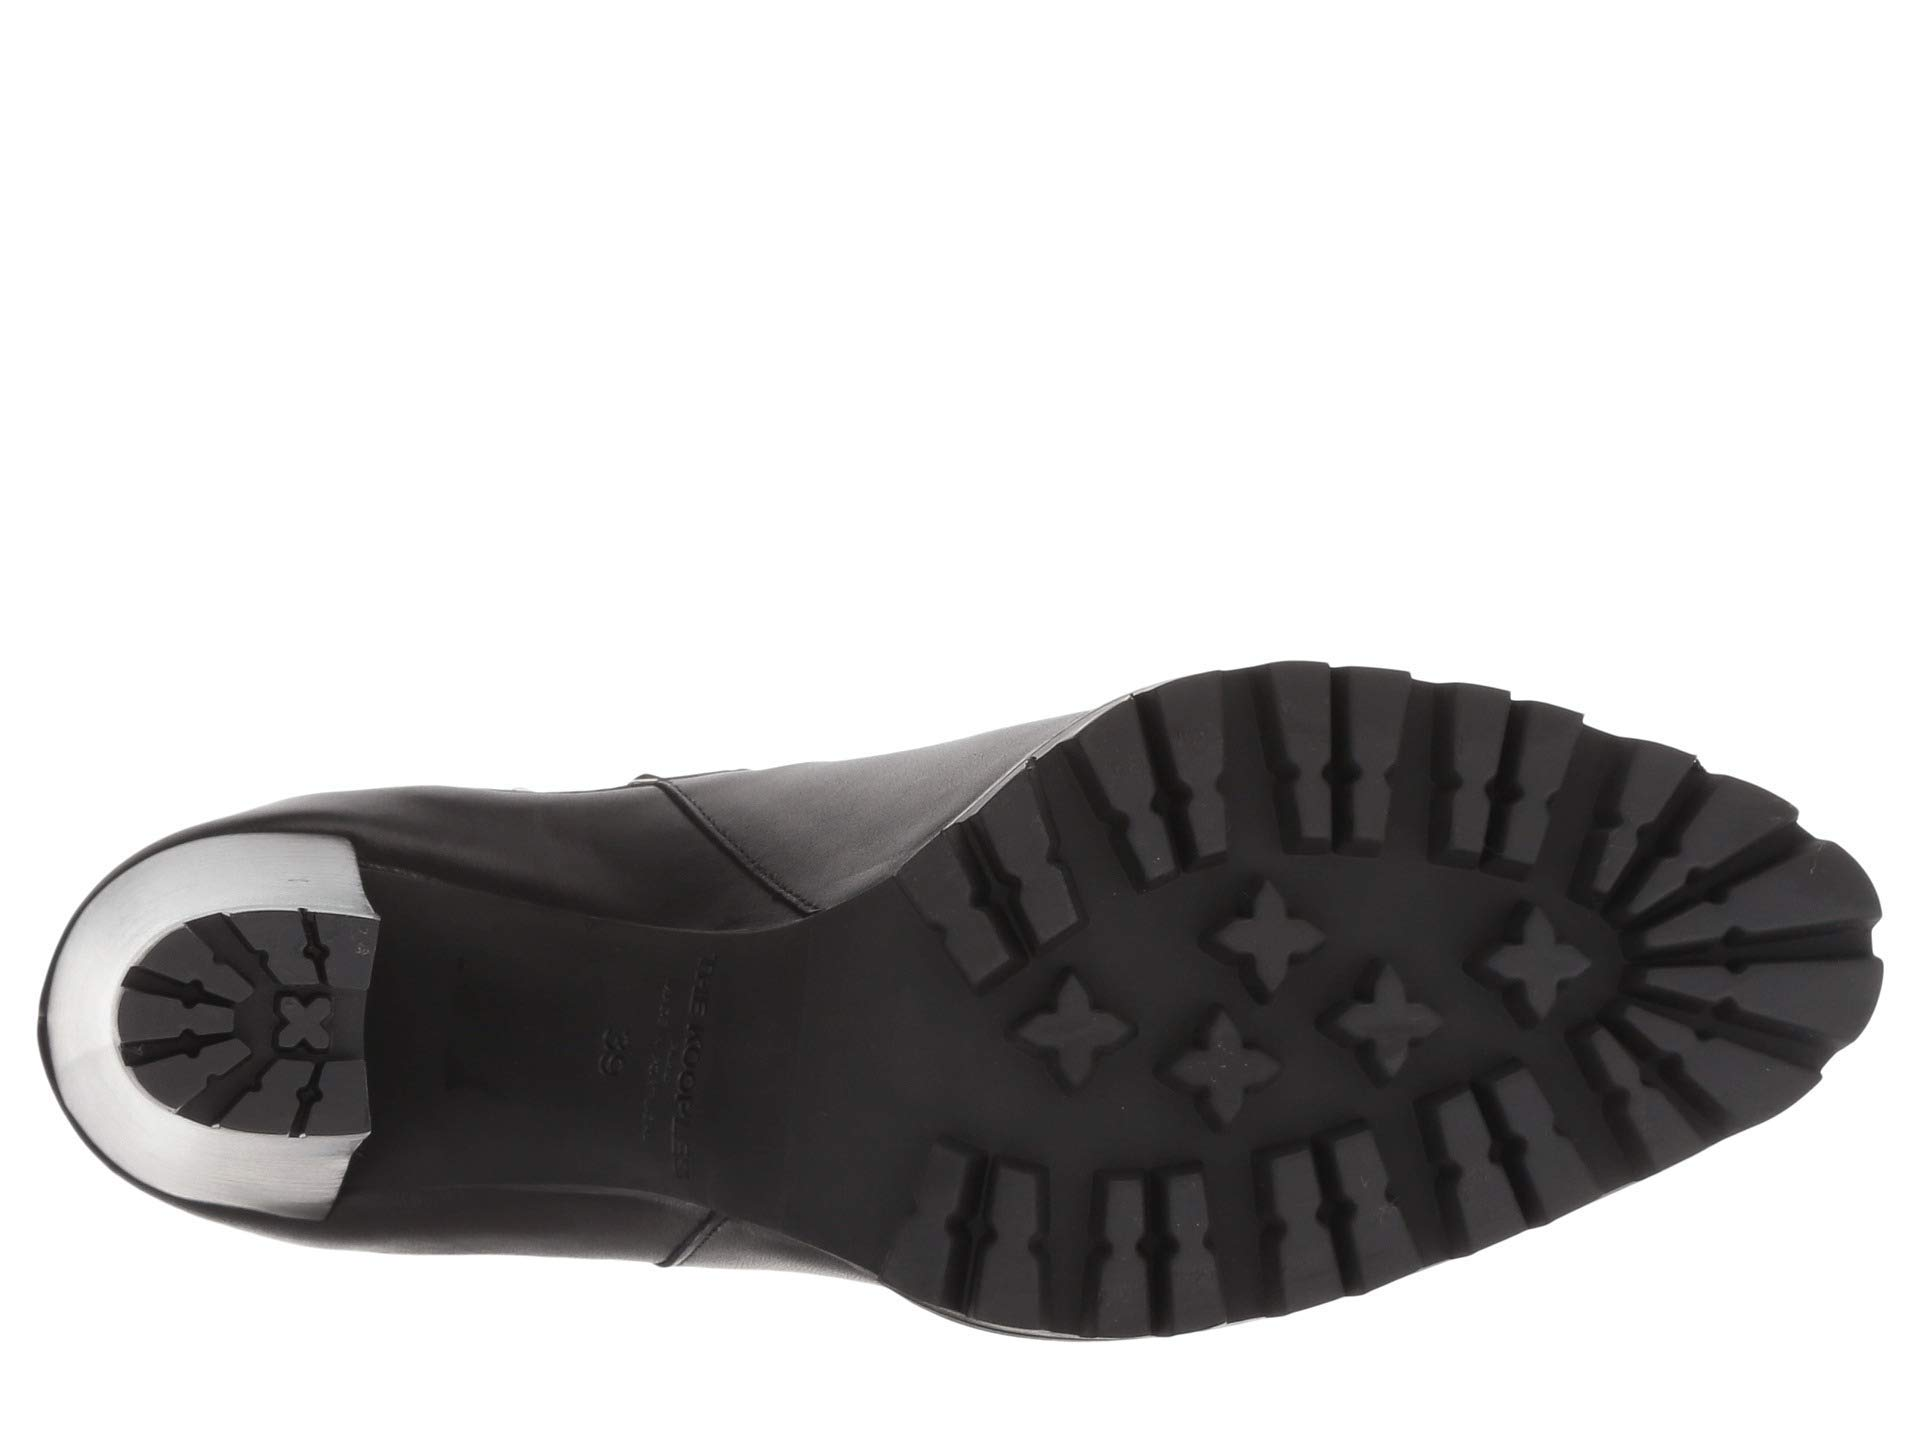bowtie: (1250, 647, 1593, 1050), (1601, 726, 1900, 1091), (1234, 1103, 1433, 1334)
star: (1250, 647, 1593, 1050), (974, 939, 1157, 1131)
